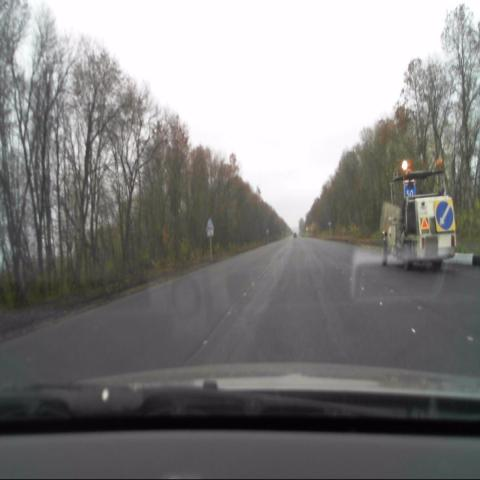4_2_2: (436, 198, 454, 232)
